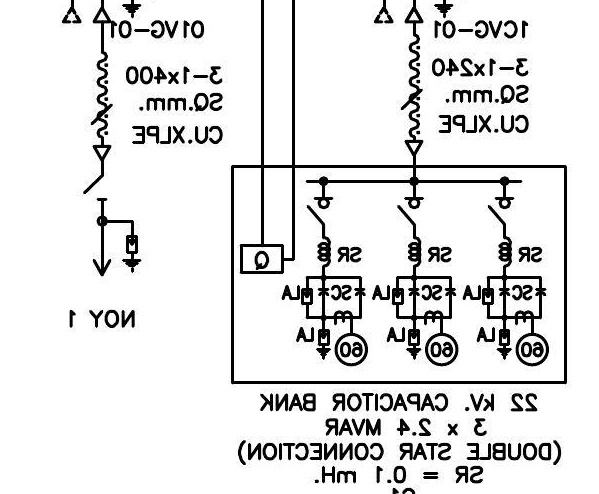22_cap_bank: (230, 164, 568, 385)
22_ds_la_out: (82, 175, 142, 277)
Q: (239, 244, 285, 275)
terminator_single: (403, 139, 424, 157), (92, 144, 112, 162)
